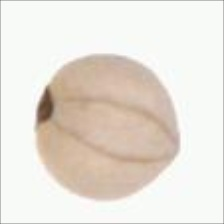L5: (56, 96, 179, 167), (31, 83, 56, 132)
L6: (30, 53, 180, 203)
